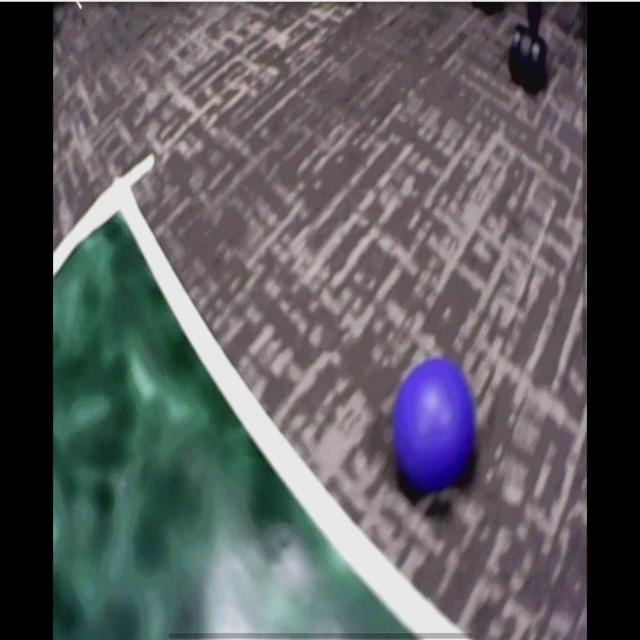ball: (391, 357, 476, 489)
